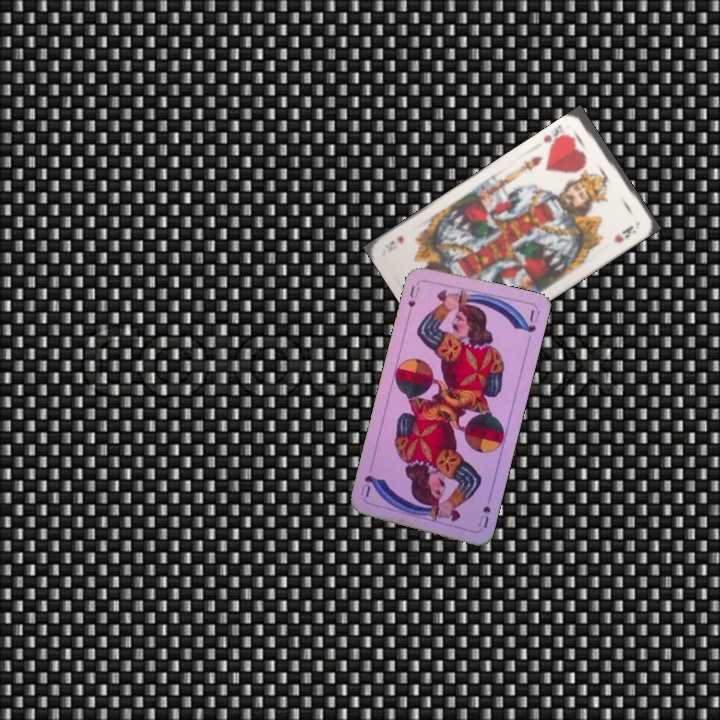HK: (539, 121, 573, 152)
SU: (474, 490, 493, 531), (404, 278, 422, 310)
